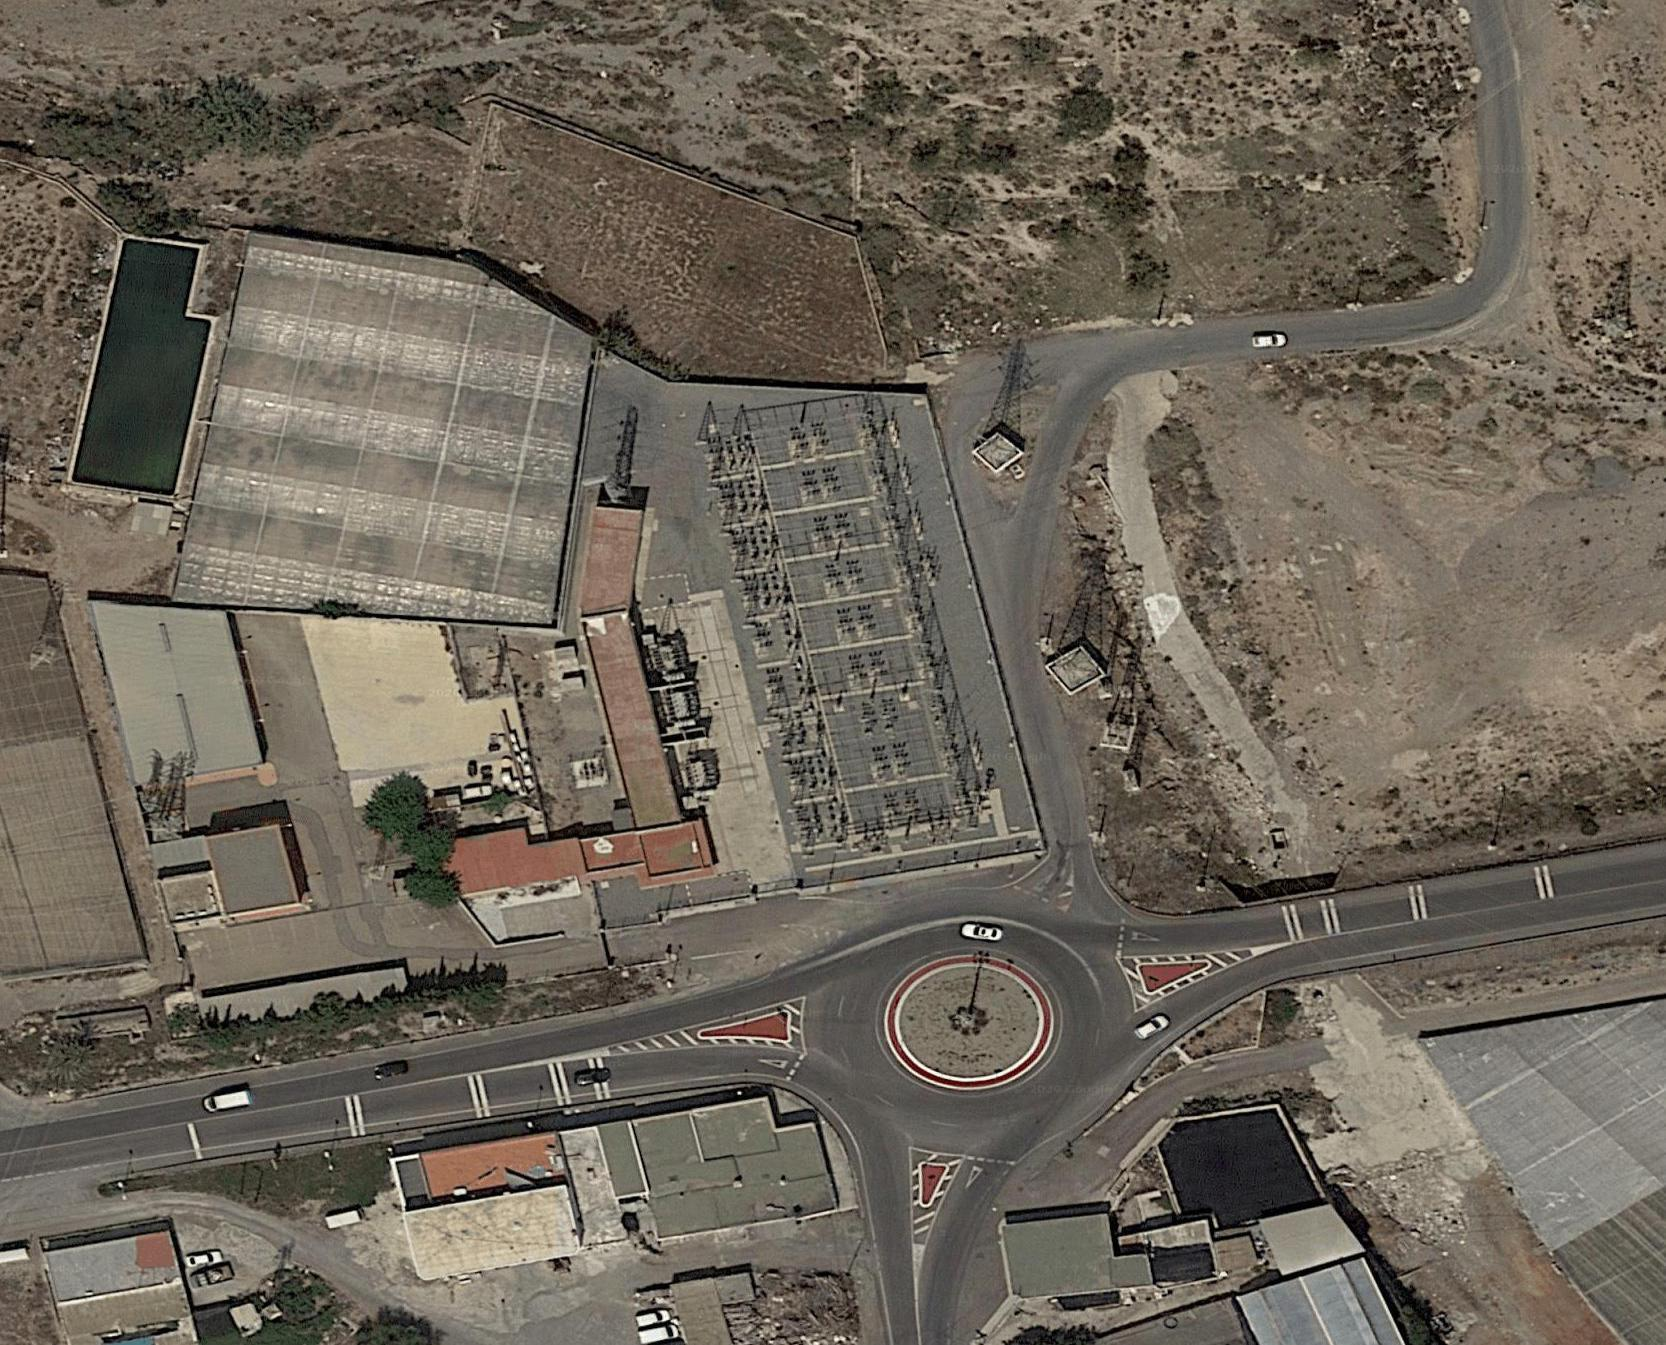substation: (633, 382, 1002, 866)
